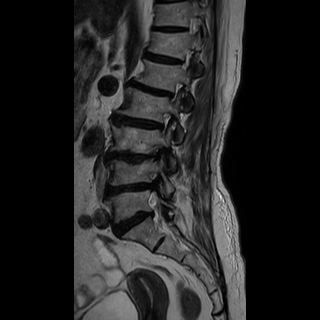RFS0: (164, 76, 192, 109), (153, 107, 178, 140)
